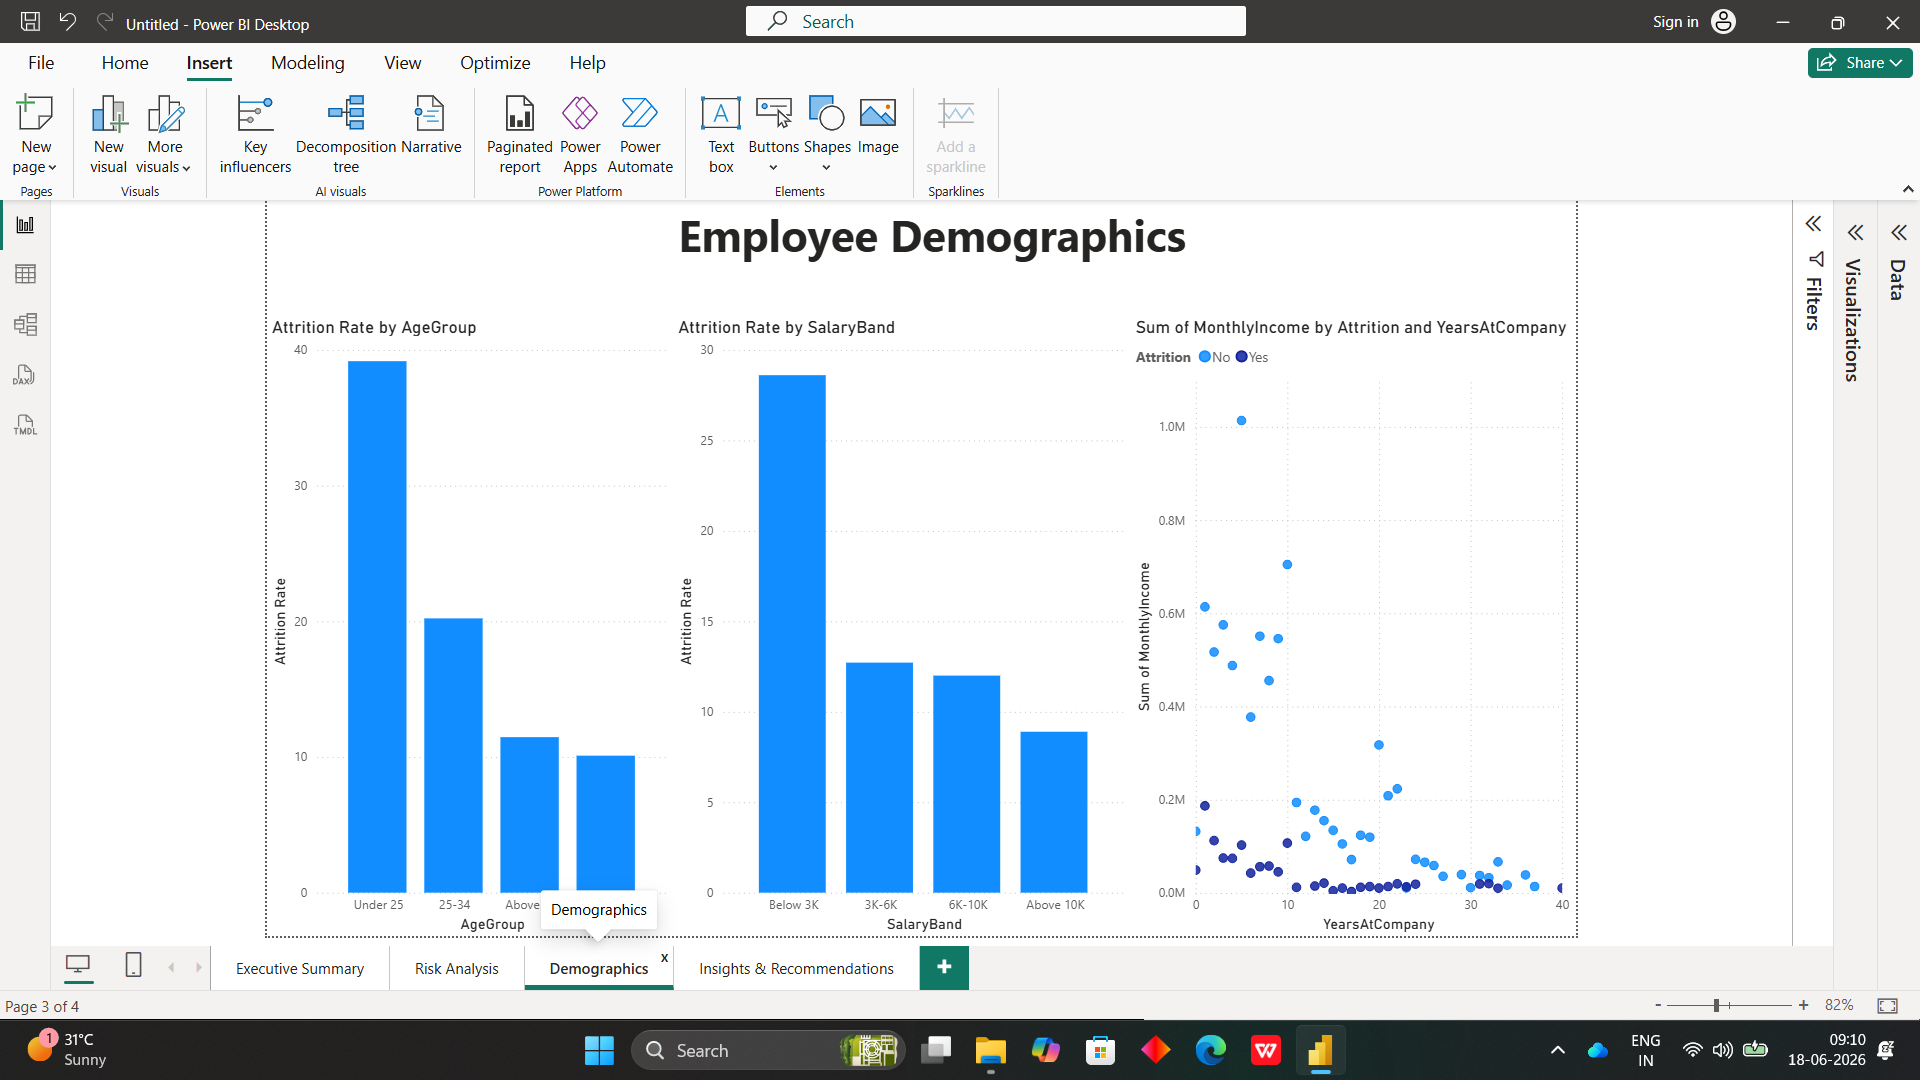

What the dashboard file says about the page in this screenshot:
{"tool":"powerbi","page":{"name":"Demographics","canvas":[1280,720],"ordinal":2},"visuals":[{"type":"clusteredColumnChart","fields":{"Category":["HR_Attrition_Cleaned.AgeGroup"],"Y":["HR_Attrition_Cleaned.Attrition Rate"]},"box":[0,113.2,397.4,607.9],"z":0},{"type":"clusteredColumnChart","fields":{"Category":["HR_Attrition_Cleaned.SalaryBand"],"Y":["HR_Attrition_Cleaned.Attrition Rate"]},"box":[397.4,113.2,447.4,607.9],"z":1},{"type":"scatterChart","fields":{"Series":["HR_Attrition_Cleaned.Attrition"],"Y":["Sum(HR_Attrition_Cleaned.MonthlyIncome)"],"X":["HR_Attrition_Cleaned.YearsAtCompany"]},"box":[844.8,113.2,434.2,607.9],"z":2},{"type":"textbox","box":[397.4,0,602.6,113.2],"z":3}]}

Visuals, with their boxes on the page's 1280x720 design canvas (x1, y1, x2, y2). These are canvas units, not pixel positions in the 1920x1080 screenshot, which may show the page scaled, cropped or inside an application window:
clusteredColumnChart - HR_Attrition_Cleaned.AgeGroup x HR_Attrition_Cleaned.Attrition Rate: crop(0, 113, 397, 721)
clusteredColumnChart - HR_Attrition_Cleaned.SalaryBand x HR_Attrition_Cleaned.Attrition Rate: crop(397, 113, 845, 721)
scatterChart - HR_Attrition_Cleaned.Attrition x Sum(HR_Attrition_Cleaned.MonthlyIncome): crop(845, 113, 1279, 721)
textbox: crop(397, 0, 1000, 113)
